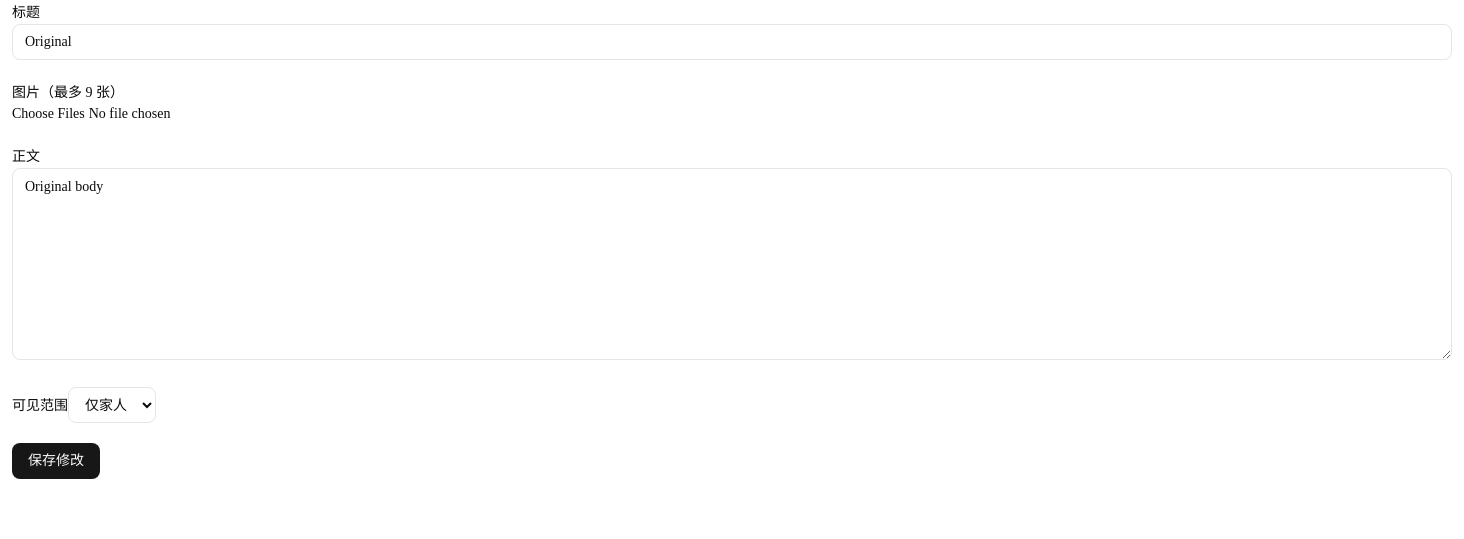
Scenario: PostForm › does not send an empty PATCH
The image size is (1464, 539).
Click the button "保存修改" at {"x": 56, "y": 461}, box [12, 443, 100, 479]
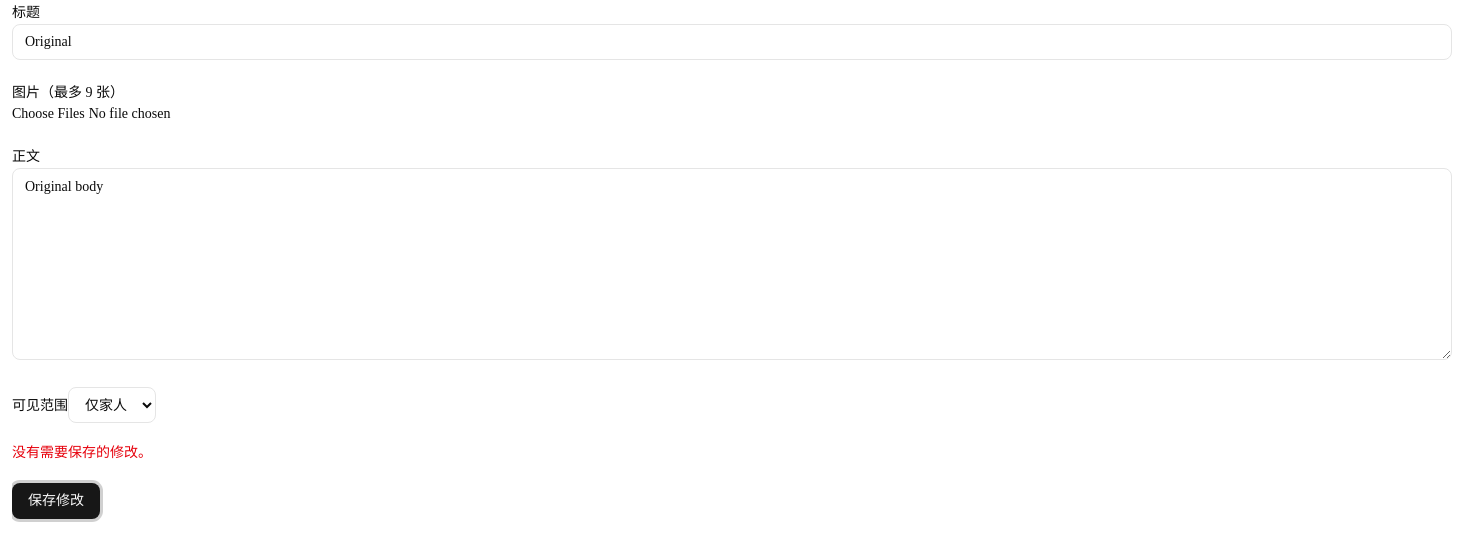
Check: the message reads "没有需要保存的修改。", box [12, 445, 152, 460]
